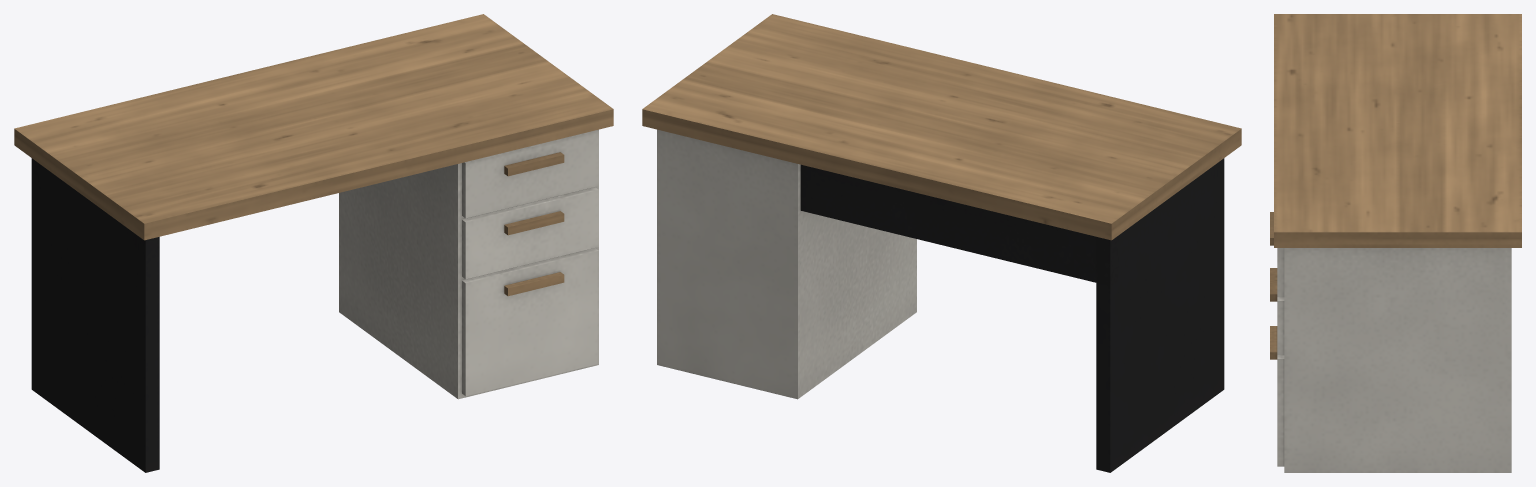
Rendered from H_Desk.fbx.
3 views of the same model, side by side, from view 1: azimuth 30°, elevation 25°; view 2: azimuth 150°, elevation 25°; view 3: azimuth 270°, elevation 25° (orthographic). The views are drawn at different scales.
Parts seen in each view (by area): view 1: H_Desk; view 2: H_Desk; view 3: H_Desk.
Part boxes in pixels (x1,y1,x2,y2): H_Desk: [14, 14, 613, 472]; H_Desk: [642, 14, 1241, 472]; H_Desk: [1270, 14, 1521, 472].
Size of the model in its own units: 500 by 262 by 244.
1 material, 1 textured.
